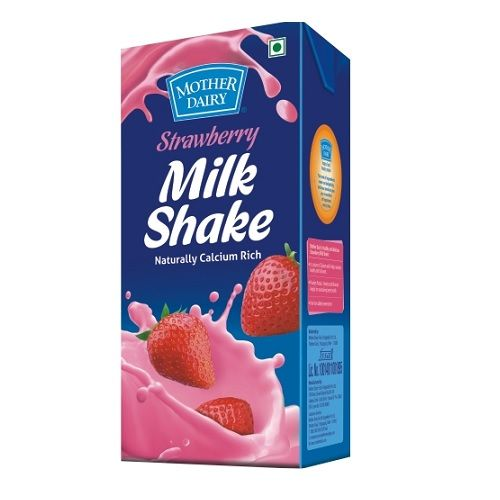Mother_Dairy: (154, 60, 263, 126)
